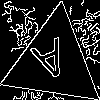A: (29, 36, 75, 92)
